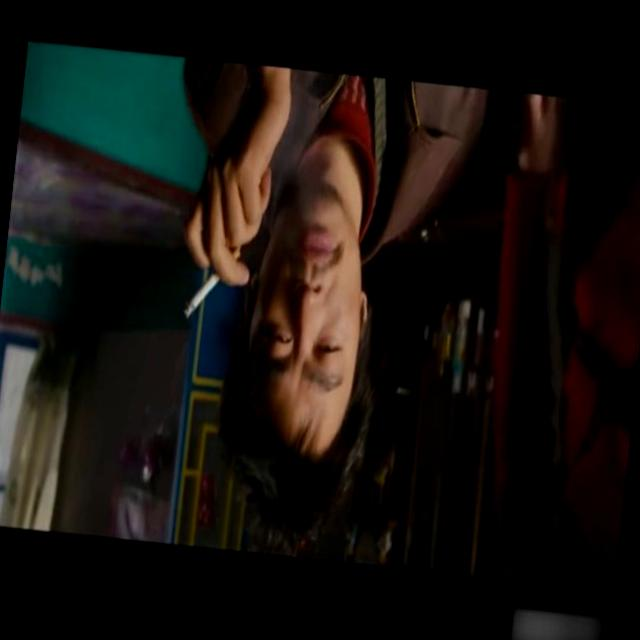smoke: (182, 225, 248, 332)
